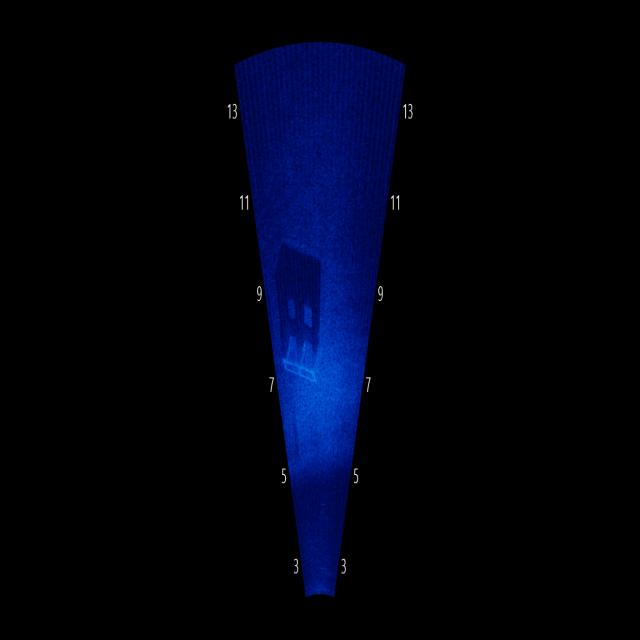square: (269, 232, 339, 398)
